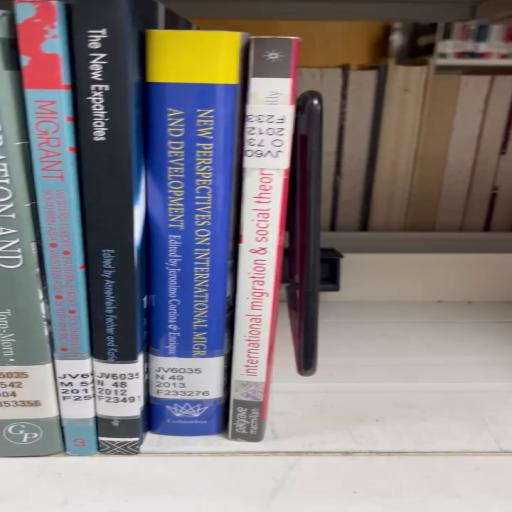reverse: (228, 37, 321, 442)
